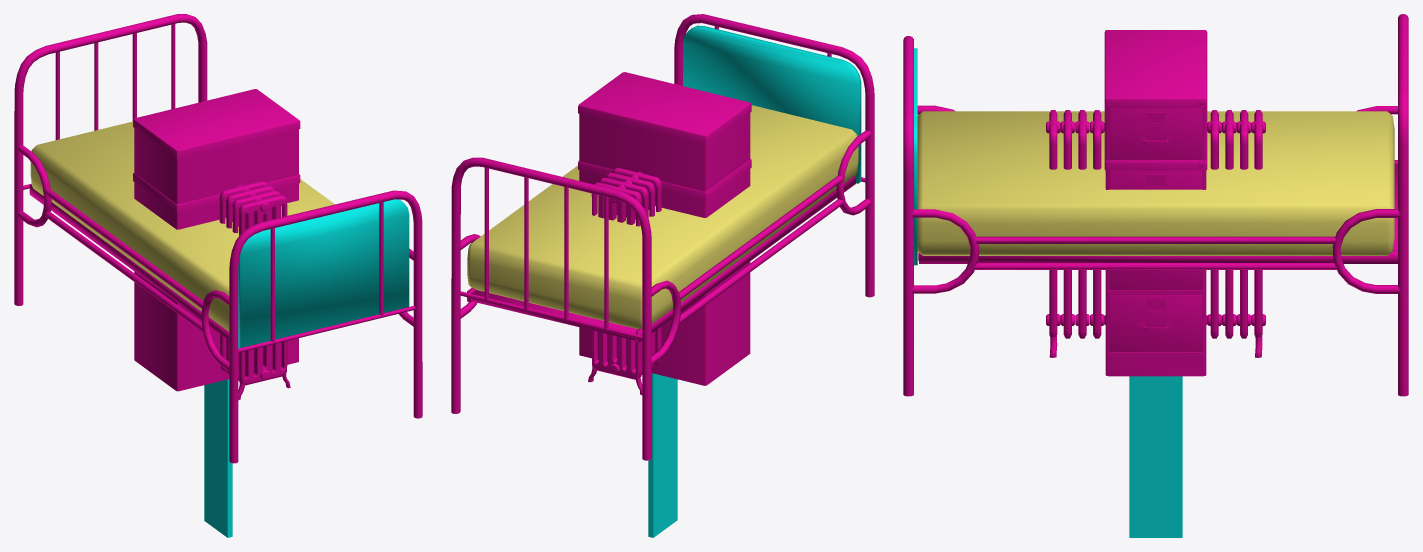
File: TO_Jam_AssetKit.fbx
3 renders of one model, left to right at view 1: azimuth 30°, elevation 25°; view 2: azimuth 150°, elevation 25°; view 3: azimuth 270°, elevation 25°, orthographic. The views are drawn at different scales.
Visible parts, largest first — view 1: ICU_FurnSet_HBed_Norm_, ICU_FurnSet_FilingCabinet_Large_, ICU_FurnSet_Radiator_Norm_, ICU_DetailSet_Board_Norm_, ICU_FurnSet_FilingCabinet_Small_; view 2: ICU_FurnSet_HBed_Norm_, ICU_FurnSet_FilingCabinet_Large_, ICU_FurnSet_Radiator_Norm_, ICU_DetailSet_Board_Norm_, ICU_FurnSet_FilingCabinet_Small_; view 3: ICU_FurnSet_HBed_Norm_, ICU_FurnSet_FilingCabinet_Large_, ICU_FurnSet_Radiator_Norm_, ICU_DetailSet_Board_Norm_, ICU_FurnSet_FilingCabinet_Small_.
Part boxes in pixels (<box>): ICU_FurnSet_HBed_Norm_: <box>14,14,422,463</box>; ICU_FurnSet_FilingCabinet_Large_: <box>133,89,300,391</box>; ICU_FurnSet_Radiator_Norm_: <box>219,181,290,400</box>; ICU_DetailSet_Board_Norm_: <box>204,379,232,537</box>; ICU_FurnSet_FilingCabinet_Small_: <box>133,173,300,312</box>; ICU_FurnSet_HBed_Norm_: <box>451,14,874,460</box>; ICU_FurnSet_FilingCabinet_Large_: <box>578,72,751,385</box>; ICU_FurnSet_Radiator_Norm_: <box>588,167,661,394</box>; ICU_DetailSet_Board_Norm_: <box>648,373,677,537</box>; ICU_FurnSet_FilingCabinet_Small_: <box>578,159,751,308</box>; ICU_FurnSet_HBed_Norm_: <box>903,14,1408,396</box>; ICU_FurnSet_FilingCabinet_Large_: <box>1104,30,1207,376</box>; ICU_FurnSet_Radiator_Norm_: <box>1046,110,1265,357</box>; ICU_DetailSet_Board_Norm_: <box>1129,376,1182,537</box>; ICU_FurnSet_FilingCabinet_Small_: <box>1104,108,1207,290</box>.
Size of the model in its own units: 119 by 249 by 236.
